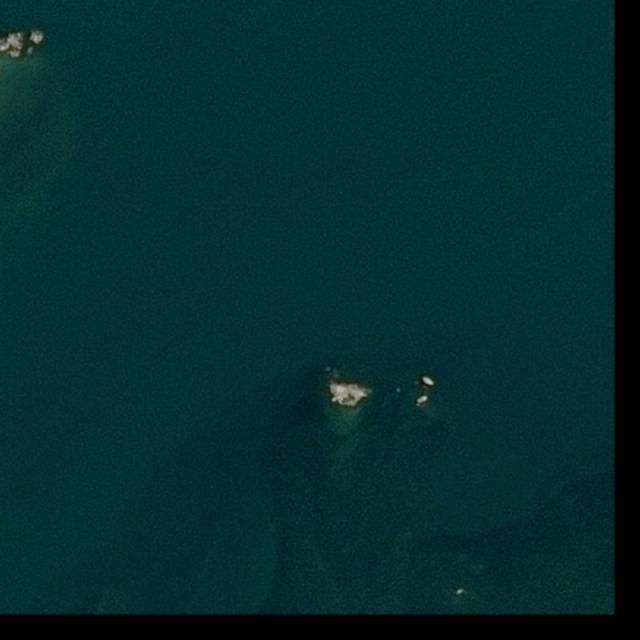ship: (422, 374, 436, 387), (417, 397, 428, 404)
